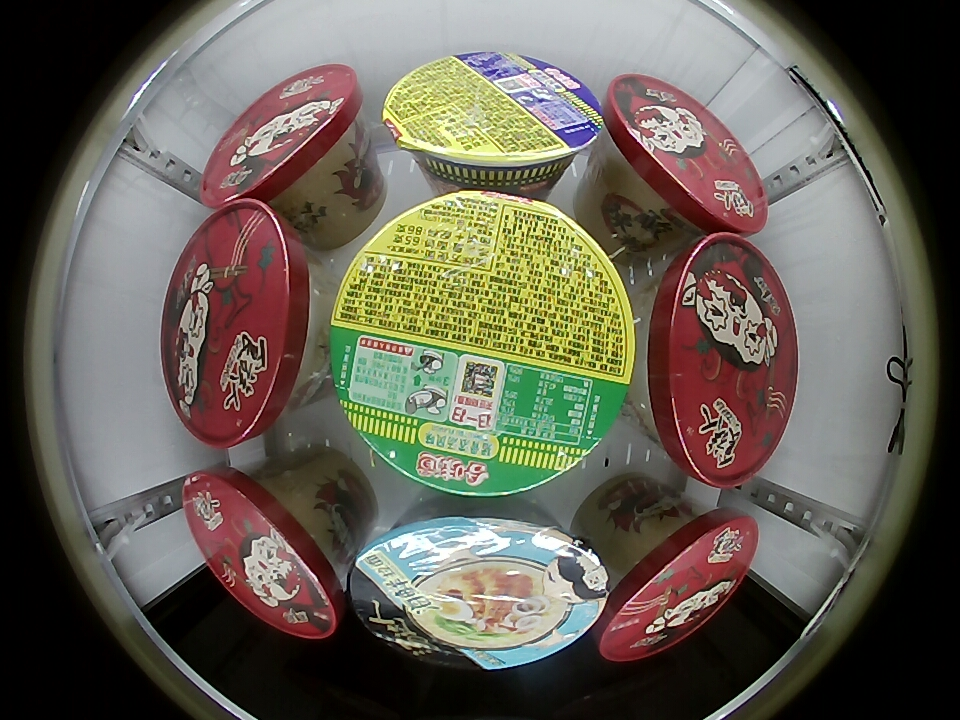heweidao: (382, 51, 606, 189)
heweidao2: (327, 190, 636, 498)
suanlafen: (638, 233, 798, 488), (161, 198, 320, 447), (183, 469, 348, 639), (603, 73, 768, 236), (598, 509, 760, 661), (201, 64, 366, 209)
tangdaren3: (349, 499, 609, 667)
